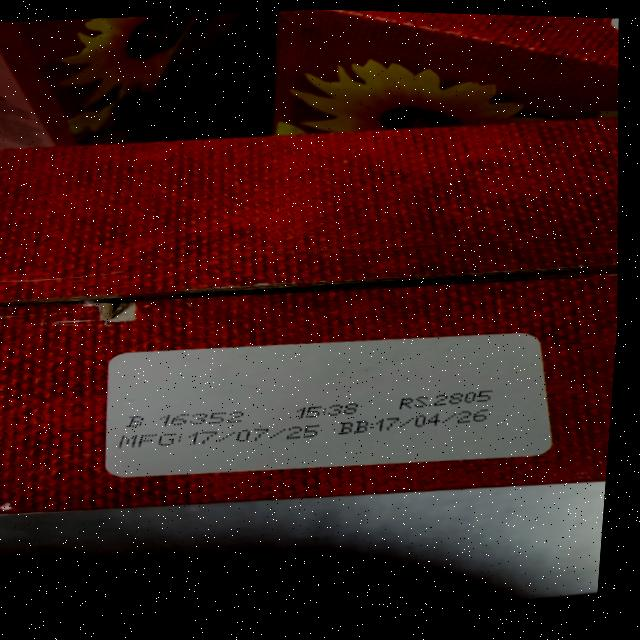BB: (337, 405, 493, 438)
Batch: (125, 407, 246, 431)
MFG: (120, 419, 327, 455)
RS: (395, 387, 497, 412)
TimeStamp: (295, 401, 362, 420)
